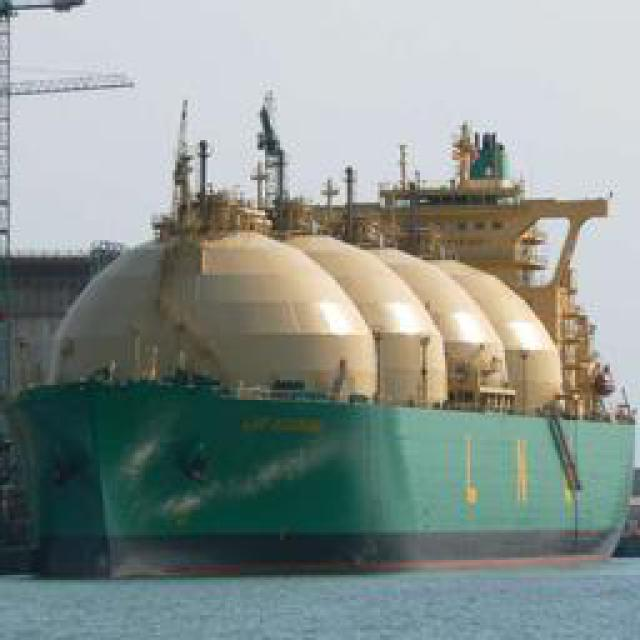Ship: (10, 90, 640, 588)
